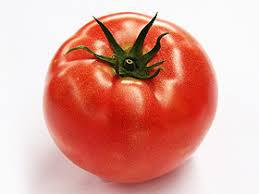tomato: (47, 13, 221, 188)
